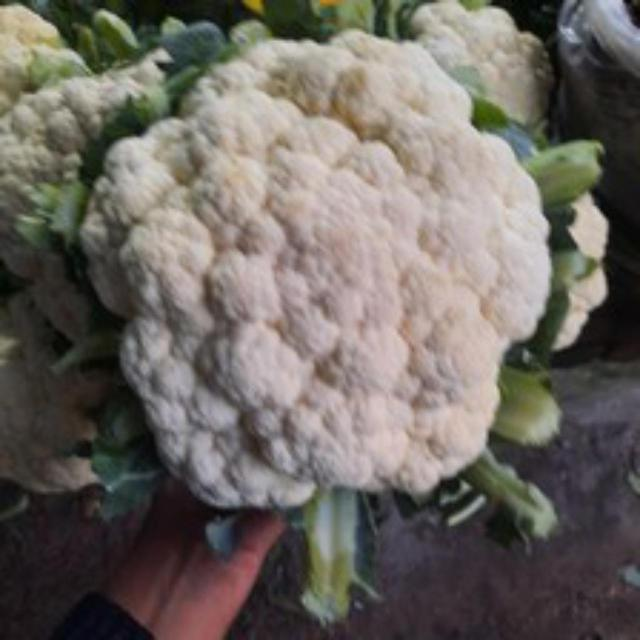cauliflower: (84, 28, 558, 525)
